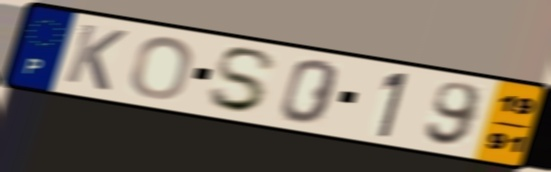0: (277, 58, 343, 126)
1: (377, 70, 410, 140)
9: (423, 81, 484, 148)
K: (61, 21, 131, 94)
O: (127, 34, 197, 101)
S: (205, 45, 281, 115)
